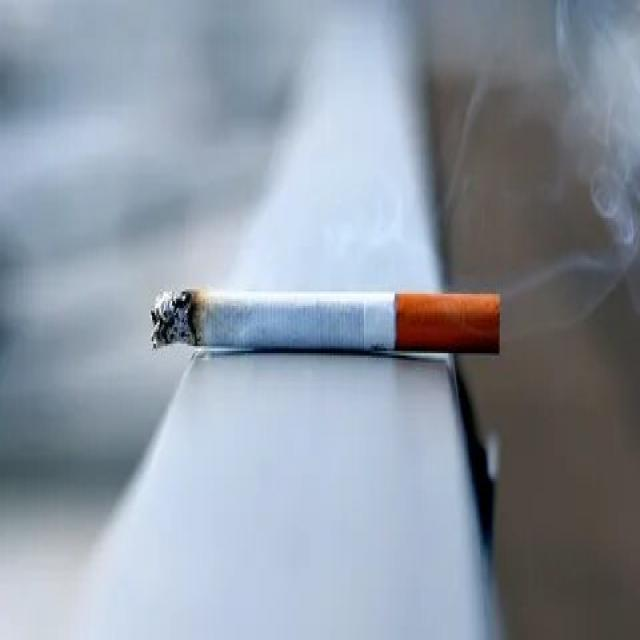smoke: (147, 280, 512, 365)
